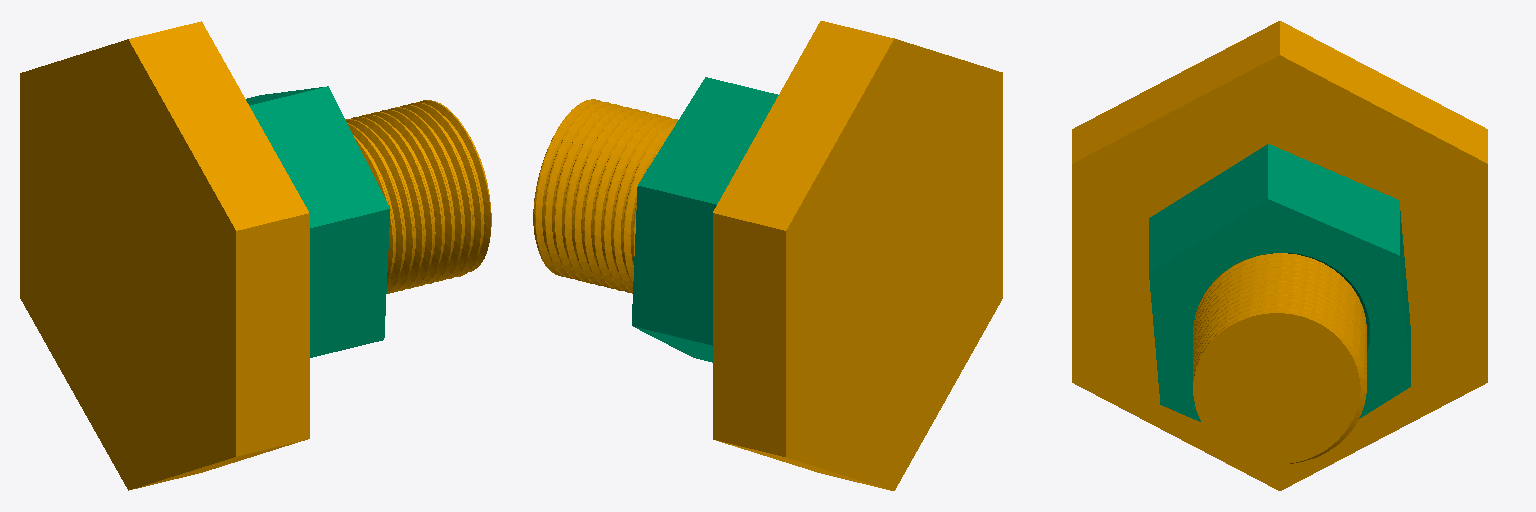
The robot description file, URDF, robot "M30":
<?xml version="1.0"?>
<!--
  M30 thread: threaded base + nut on a continuous revolute and a prismatic
  joint along the thread axis. Upstream M30.urdf put the prismatic joint on the
  base instead of the nut and had the plate normal on +Z; this re-authoring
  chains revolute -> prismatic -> nut and turns the plate normal to +X like the
  other mechanisms.
  The base collides as primitives (its hull is a cone over the thread).
  PrismaticJoint = 0 seats the nut on the plate; +X unscrews it.
-->
<robot name="M30">
  <link name="World">
    <inertial><origin xyz="0.0325 0 0" rpy="0 0 0" /><mass value="0.4369" /><inertia ixx="0.000494543" ixy="0" ixz="0" iyy="0.000436426" iyz="0" izz="0.000365777" /></inertial>
    <visual>
      <origin xyz="0 0 0" rpy="0 1.5707963 0" />
      <geometry><mesh filename="meshes/Base_Corpo1.obj" scale="1 1 1" /></geometry>
    </visual>
    <collision>
      <origin xyz="0.0075 0 0" rpy="0 0 0" />
      <geometry><box size="0.015 0.076 0.076" /></geometry>
    </collision>
    <collision>
      <origin xyz="0.040 0 0" rpy="0 1.5707963 0" />
      <geometry><cylinder radius="0.0150" length="0.050" /></geometry>
    </collision>
  </link>
  <link name="rot_pivot">
    <inertial><origin xyz="0 0 0" rpy="0 0 0" /><mass value="0.005" /><inertia ixx="1e-06" ixy="0" ixz="0" iyy="1e-06" iyz="0" izz="1e-06" /></inertial>
  </link>
  <link name="Nut">
    <inertial><origin xyz="0 0 0.012" rpy="0 0 0" /><mass value="0.0586" /><inertia ixx="1.66017e-05" ixy="0" ixz="0" iyy="1.3155e-05" iyz="0" izz="2.41272e-05" /></inertial>
    <visual>
      <origin xyz="0 0 0" rpy="0 0 -0.4439008" />
      <geometry><mesh filename="meshes/Nut_Corpo1.obj" scale="1 1 1" /></geometry>
    </visual>
    <collision>
      <origin xyz="0 0 0" rpy="0 0 -0.4439008" />
      <geometry><mesh filename="meshes/Nut_Corpo1.obj" scale="1 1 1" /></geometry>
    </collision>
  </link>
  <!-- Child frames have +Z along the thread, which is World +X. -->
  <joint name="RevoluteJoint" type="continuous">
    <origin xyz="0.015649 0 0" rpy="0 1.5707963 0" />
    <parent link="World" />
    <child link="rot_pivot" />
    <axis xyz="0 0 1" />
  </joint>
  <joint name="PrismaticJoint" type="prismatic">
    <origin xyz="0 0 0" rpy="0 0 0" />
    <parent link="rot_pivot" />
    <child link="Nut" />
    <axis xyz="0 0 1" />
    <limit lower="0.0" upper="0.025" effort="100.0" velocity="1.0" />
  </joint>
</robot>

--- Facts derived from the render (not from the file) ---
Views: 3 orthographic renders of the robot side by side, from view 1: azimuth 30°, elevation 25°; view 2: azimuth 150°, elevation 25°; view 3: azimuth 270°, elevation 25°.
Model M30 with 3 links and 2 joints (1 continuous, 1 prismatic), rooted at World, posed every joint at zero.
Visible links, largest first — view 1: World, Nut; view 2: World, Nut; view 3: World, Nut.
Link boxes in pixels (bbox=[...]): World: bbox=[20, 21, 491, 490]; Nut: bbox=[246, 86, 389, 357]; World: bbox=[533, 21, 1002, 490]; Nut: bbox=[632, 77, 778, 362]; World: bbox=[1072, 21, 1487, 490]; Nut: bbox=[1149, 144, 1410, 421].
Bounding box of the posed robot: 0.065 × 0.0763 × 0.0881 m (x, y, z).
Meshes: 2 distinct files referenced, 2 mesh visuals loaded (2 OBJ).
